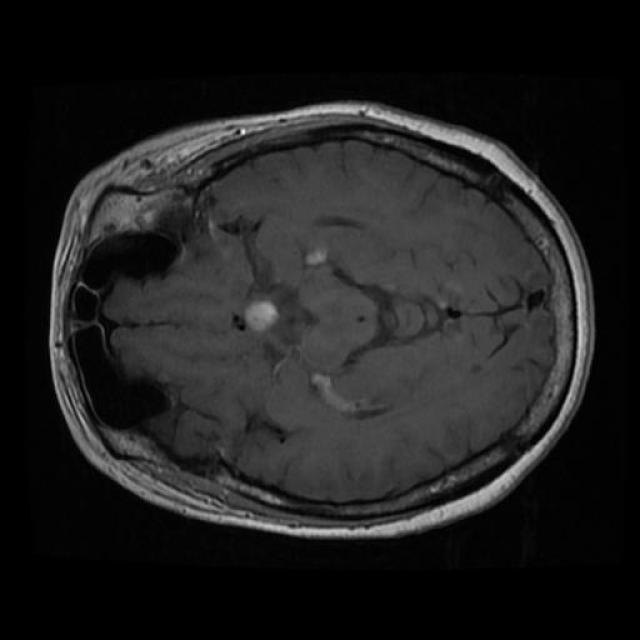Pituitary: (245, 300, 279, 332)
